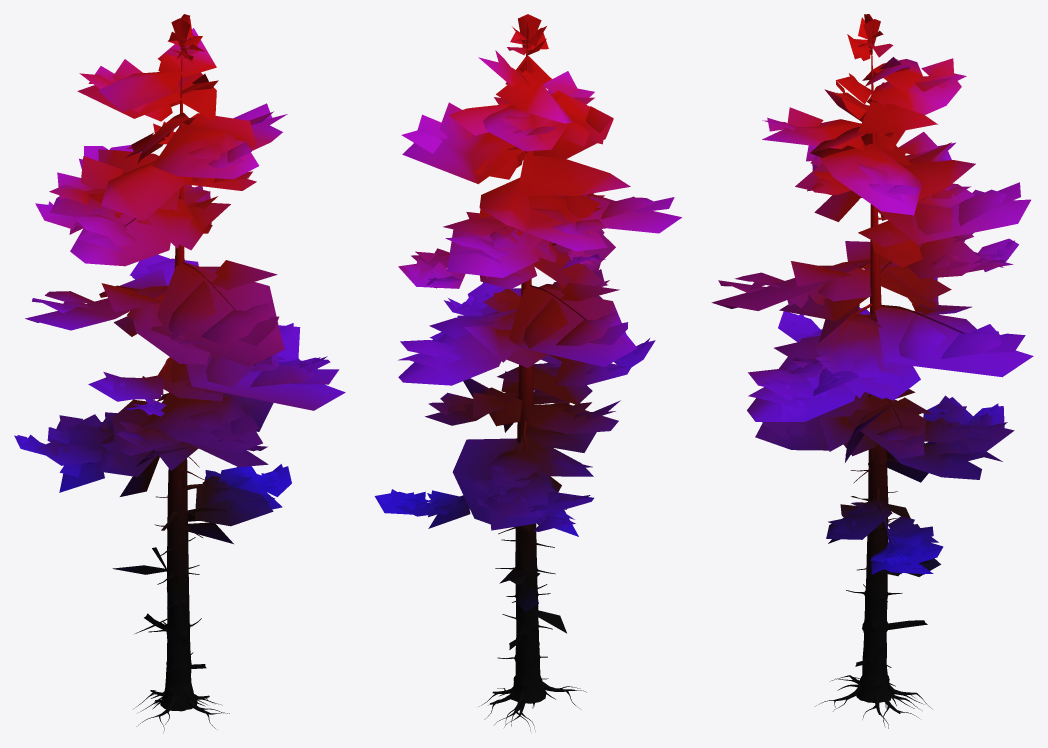
File: Fir_06_Forest_cheap.FBX
3 renders of one model, left to right at view 1: azimuth 30°, elevation 25°; view 2: azimuth 150°, elevation 25°; view 3: azimuth 270°, elevation 25°, orthographic.
Parts seen in each view (by area): view 1: Fir_06_Forest_LOD0; view 2: Fir_06_Forest_LOD0; view 3: Fir_06_Forest_LOD0.
Boxes of the visible parts, left/top/right/bottom form: Fir_06_Forest_LOD0: left=14, top=14, right=345, bottom=732; Fir_06_Forest_LOD0: left=374, top=14, right=681, bottom=731; Fir_06_Forest_LOD0: left=711, top=14, right=1033, bottom=728.
Size of what is drawn, in the model's own units: 7900 by 20136 by 8409.
